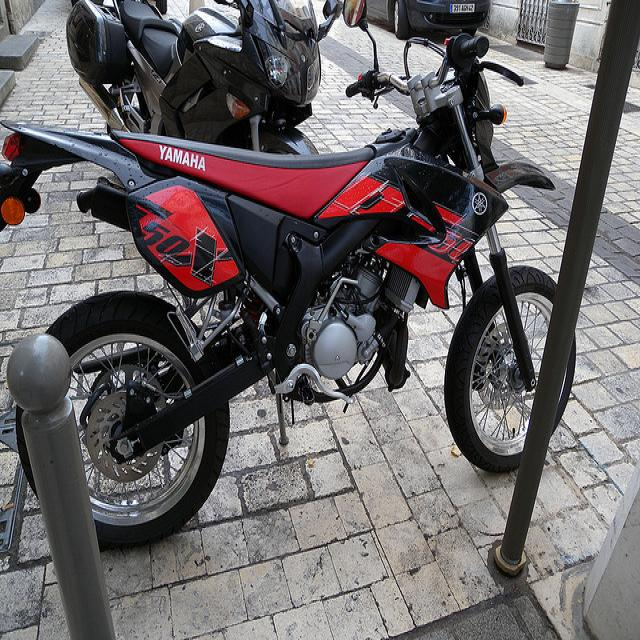motor: (0, 21, 559, 553), (65, 3, 321, 158)
